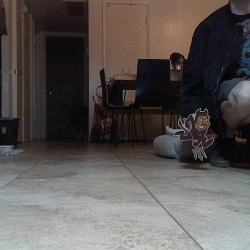sparky: (173, 107, 215, 162)
